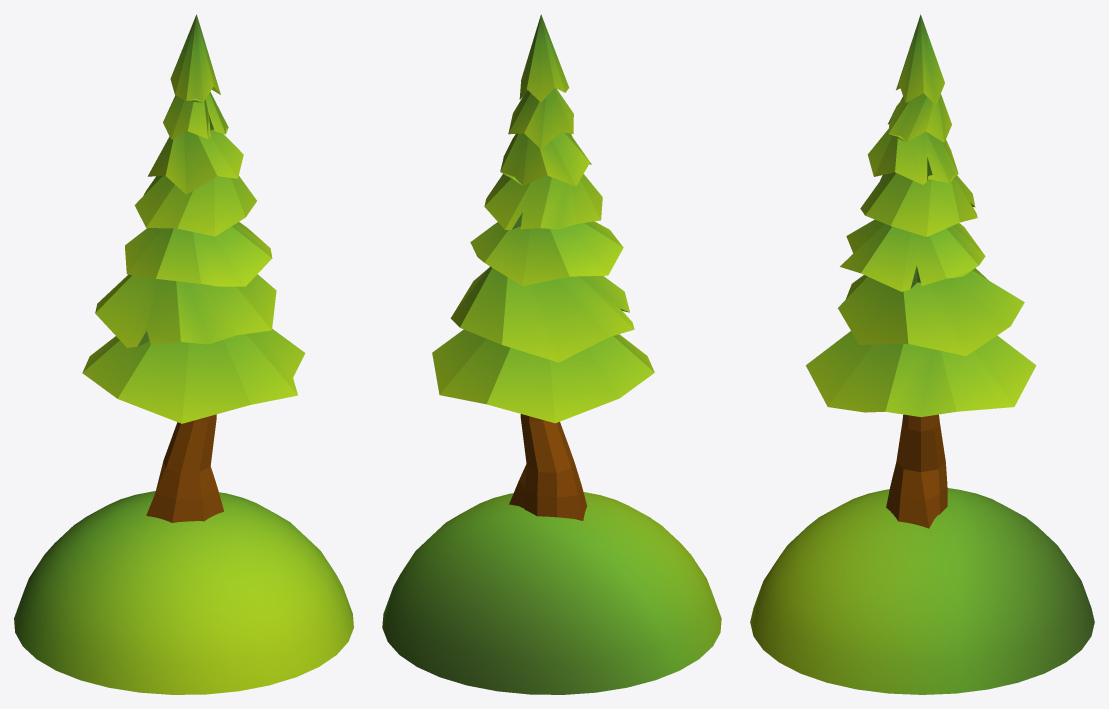
3 renders of one model, left to right at view 1: azimuth 30°, elevation 25°; view 2: azimuth 150°, elevation 25°; view 3: azimuth 270°, elevation 25°, orthographic.
Visible parts, largest first — view 1: Sphere, Cylinder; view 2: Sphere, Cylinder; view 3: Sphere, Cylinder.
Boxes of the visible parts, x1,y1,x2,y2 form: Sphere: (14,491,353,694); Cylinder: (82,14,305,522); Sphere: (382,492,721,694); Cylinder: (432,14,654,520); Sphere: (750,488,1094,694); Cylinder: (806,14,1036,528).
Size of the model in its own units: 2.13 by 4.19 by 2.13.
Materials: 3 (3 with a texture image).
